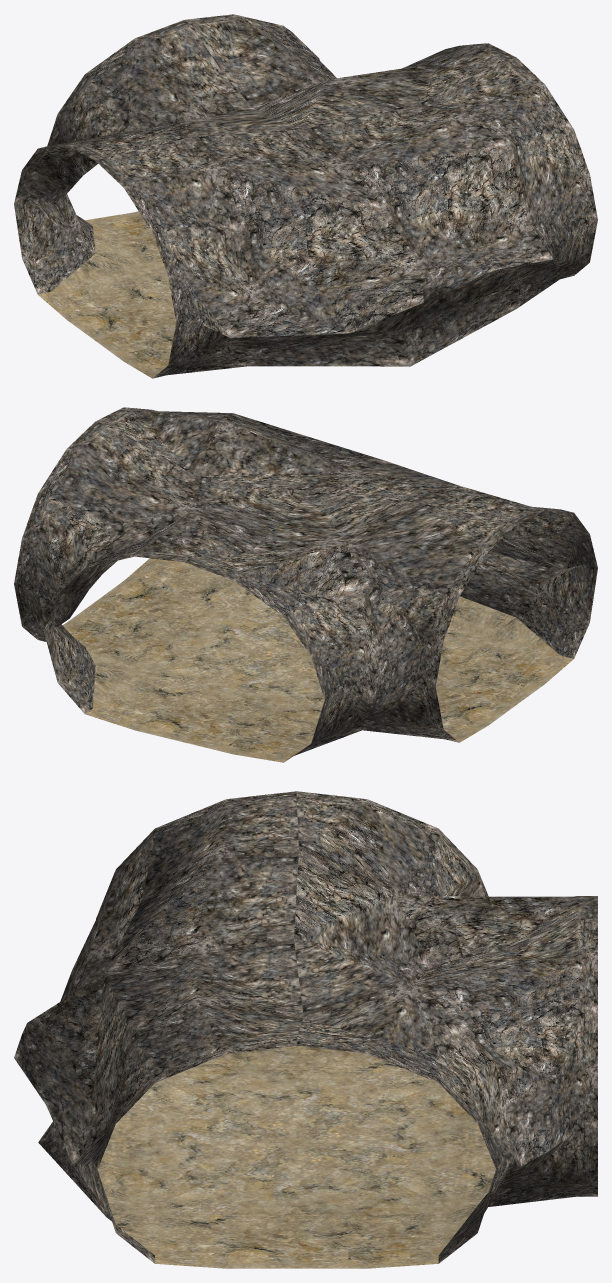
Rendered from pir_m_are_cav_threeway150.fbx.
3 renders of one model, top to bottom at view 1: azimuth 30°, elevation 25°; view 2: azimuth 150°, elevation 25°; view 3: azimuth 270°, elevation 25°, orthographic. The views are drawn at different scales.
Visible parts, largest first — view 1: threeway150_wall, threeway150_floor; view 2: threeway150_wall, threeway150_floor; view 3: threeway150_wall, threeway150_floor.
Part boxes in pixels (left/top/right/bottom): threeway150_wall: left=14, top=14, right=597, bottom=378; threeway150_floor: left=38, top=211, right=176, bottom=378; threeway150_wall: left=14, top=407, right=597, bottom=761; threeway150_floor: left=62, top=558, right=573, bottom=762; threeway150_wall: left=14, top=791, right=597, bottom=1263; threeway150_floor: left=97, top=1046, right=495, bottom=1268.
Bounding box in the file's own units: 15000 × 6169 × 14543.
Materials: 2 (2 with a texture image).
